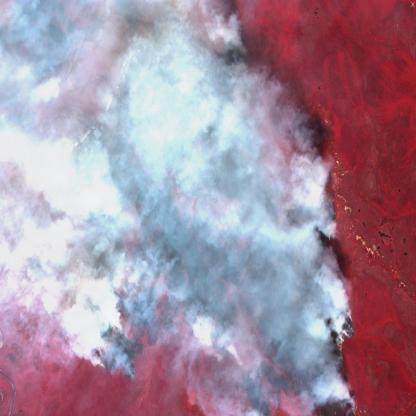fire: (54, 28, 359, 416)
